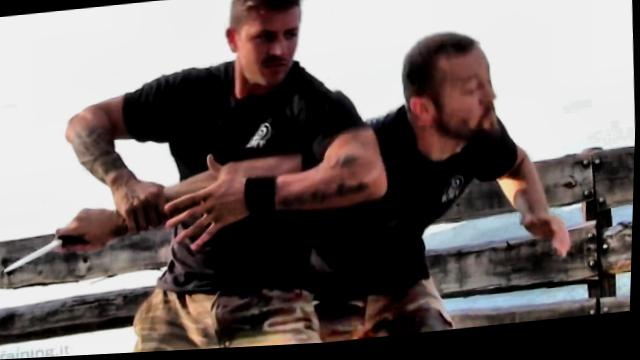knife: (0, 206, 102, 275)
